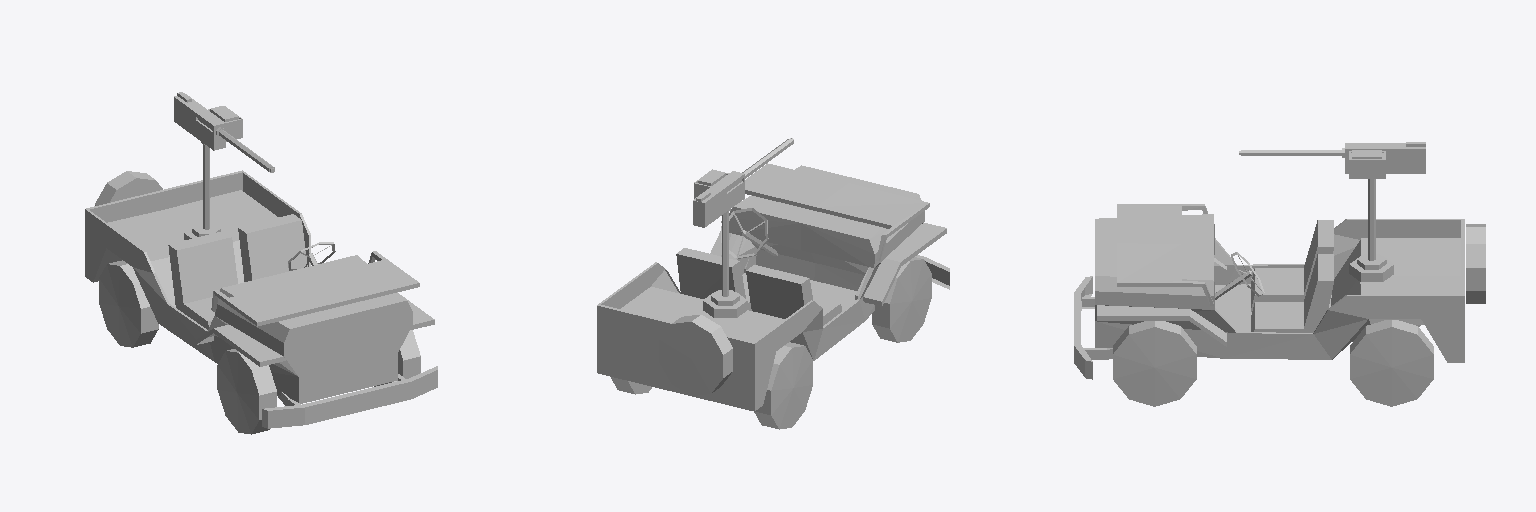
File: jeep_m2.obj
3 renders of one model, left to right at view 1: azimuth 30°, elevation 25°; view 2: azimuth 150°, elevation 25°; view 3: azimuth 270°, elevation 25°, orthographic.
Visible parts, largest first — view 1: polySurface157, Cylinder.002; view 2: polySurface157, Cylinder.002; view 3: polySurface157, Cylinder.002.
Part boxes in pixels (bbox=[...]): polySurface157: bbox=[85, 170, 437, 434]; Cylinder.002: bbox=[174, 92, 274, 239]; polySurface157: bbox=[597, 163, 949, 429]; Cylinder.002: bbox=[693, 138, 793, 317]; polySurface157: bbox=[1074, 204, 1485, 406]; Cylinder.002: bbox=[1239, 142, 1425, 281].
Size of the model in its own units: 2.1 by 2.53 by 4.25.